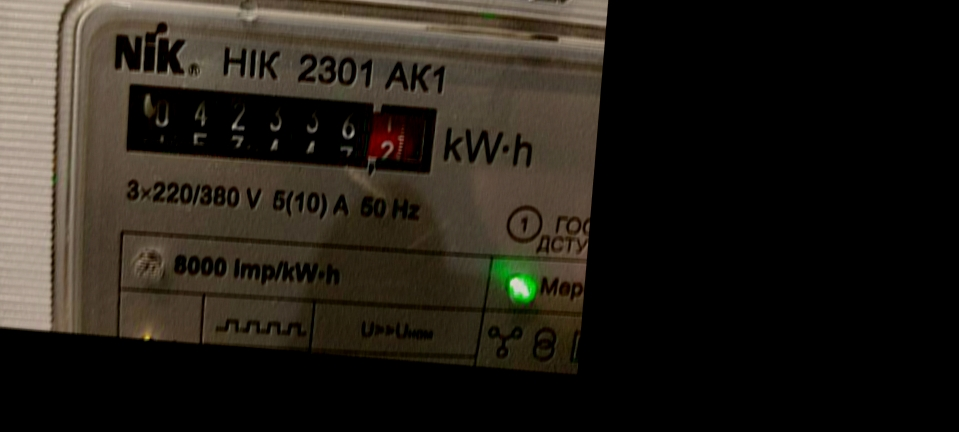0: (152, 95, 173, 130)
1: (382, 108, 396, 135)
2: (228, 98, 251, 133), (377, 139, 395, 161)
3: (265, 100, 285, 133), (304, 103, 323, 136)
4: (192, 95, 211, 128)
6: (338, 108, 361, 143)
screen: (111, 69, 452, 188)
